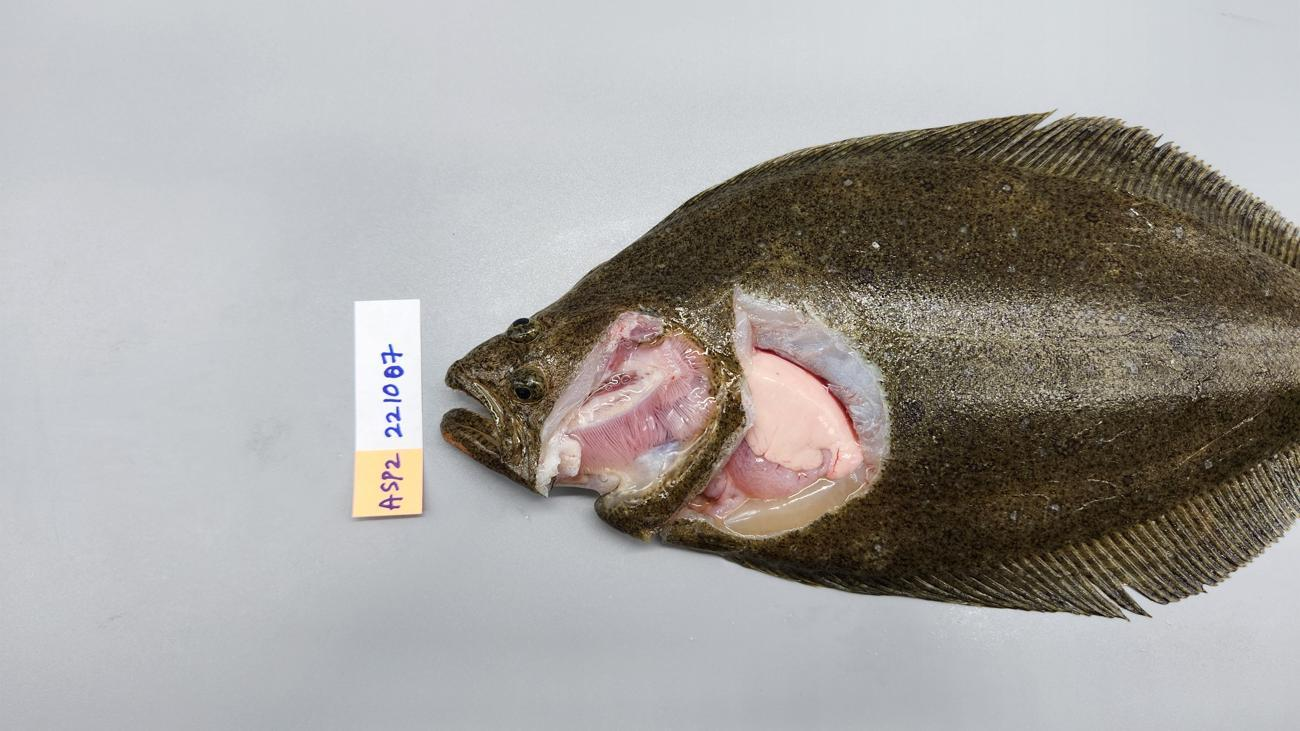SPGIP: (571, 335, 715, 470)
